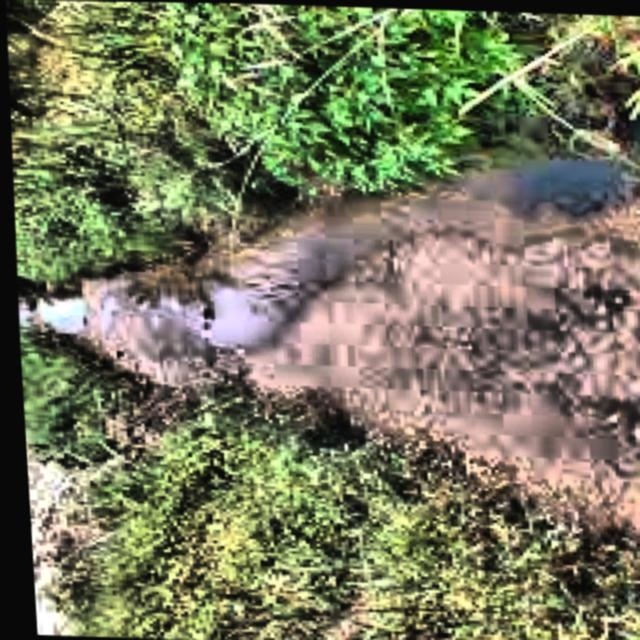clogged_drains: (18, 153, 640, 533)
